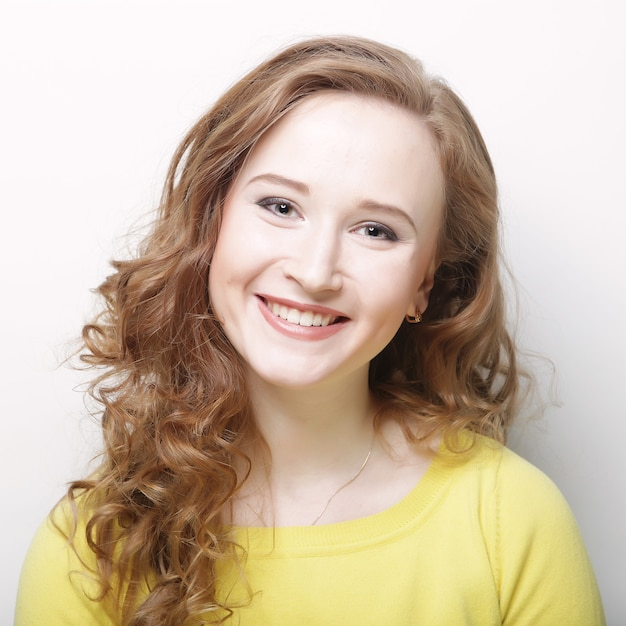teen: (112, 21, 496, 397)
